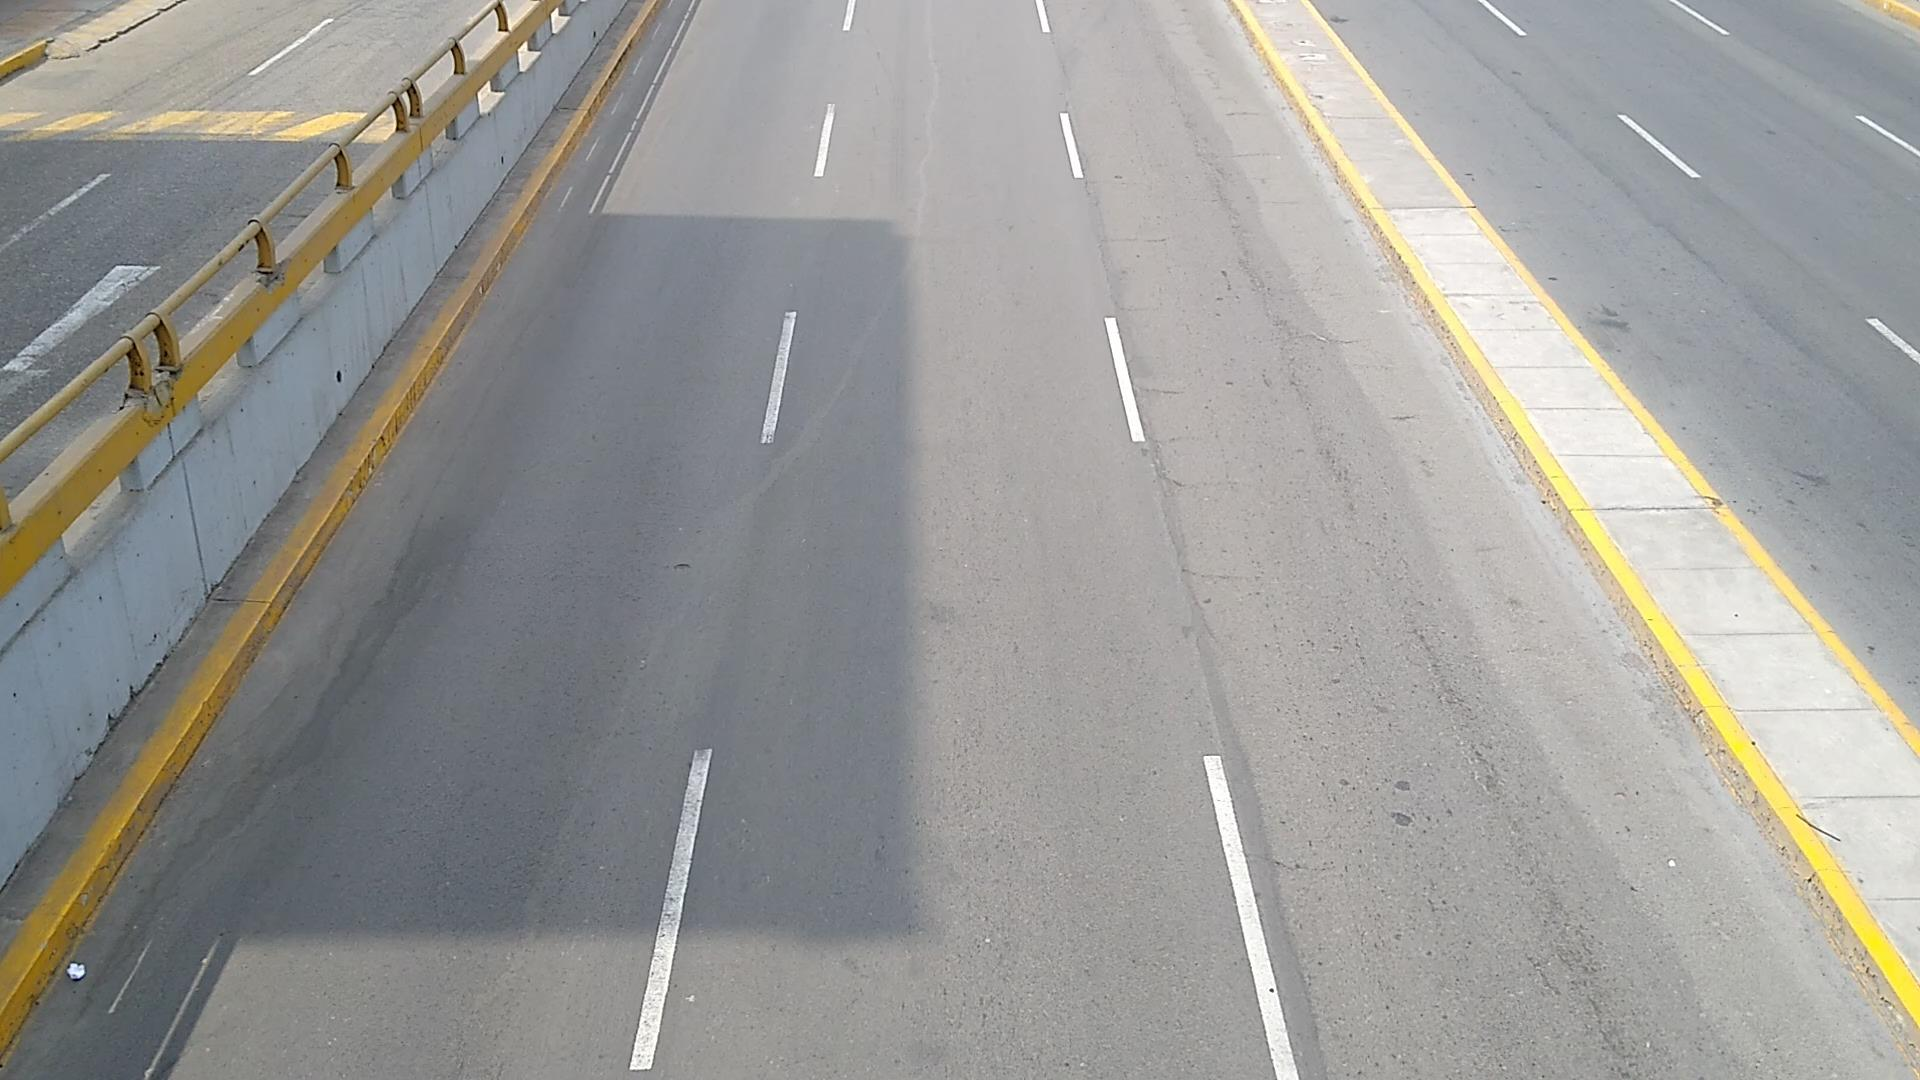car: (0, 0, 484, 433)
